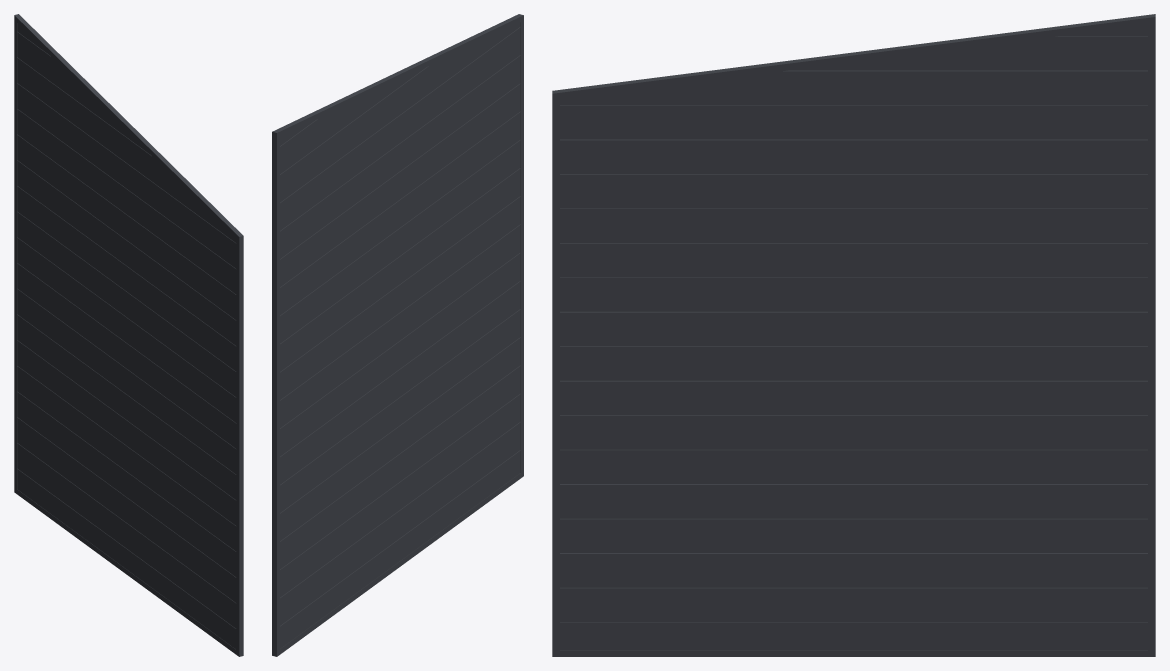
File: nebbiolo_grillo_panel_left_600_250.glb
The picture shows the model from 3 angles, left to right: view 1: azimuth 30°, elevation 25°; view 2: azimuth 150°, elevation 25°; view 3: azimuth 270°, elevation 25°; orthographic projection. The views are drawn at different scales.
Parts seen in each view (by area): view 1: grillo_panel_left_600_250; view 2: grillo_panel_left_600_250; view 3: grillo_panel_left_600_250.
Part boxes in pixels (bbox=[...]): grillo_panel_left_600_250: bbox=[14, 14, 243, 656]; grillo_panel_left_600_250: bbox=[272, 14, 523, 656]; grillo_panel_left_600_250: bbox=[552, 14, 1155, 656].
Size of the model in its own units: 0.028 by 2.85 by 2.44.
1 material, 1 textured.
